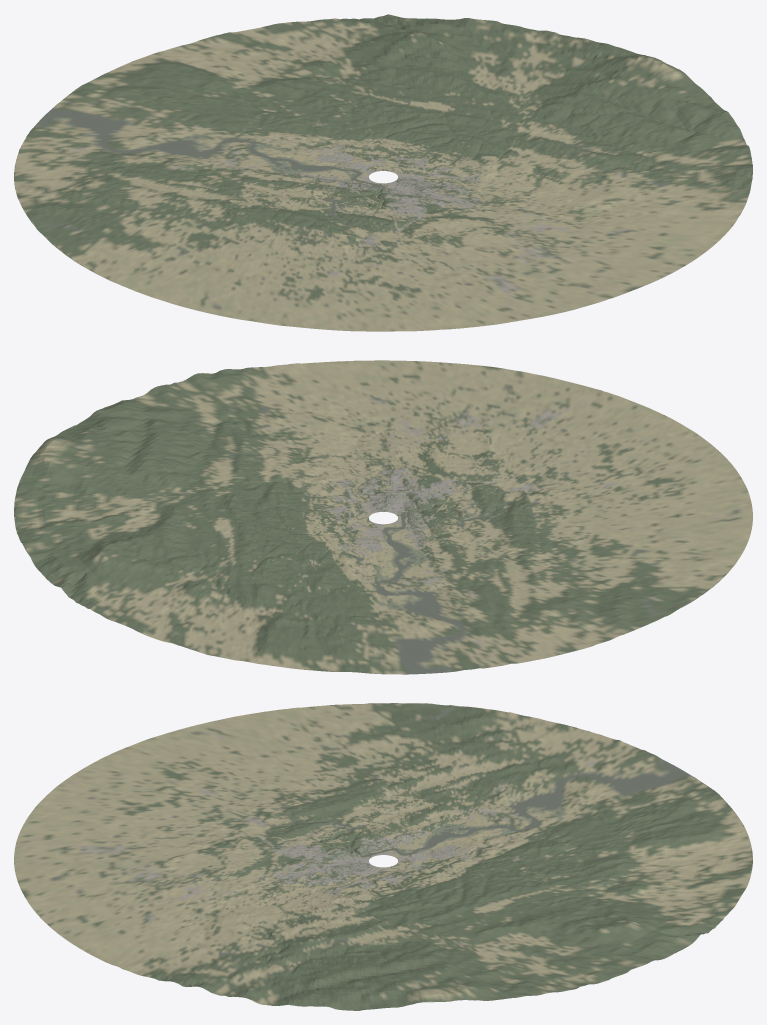
File: york_park_backdrop.glb
3 views of the same model, one above another, from view 1: azimuth 30°, elevation 25°; view 2: azimuth 150°, elevation 25°; view 3: azimuth 270°, elevation 25° (orthographic).
Visible parts, largest first — view 1: geometry_0; view 2: geometry_0; view 3: geometry_0.
Boxes of the visible parts, x1,y1,x2,y2 form: geometry_0: (14, 14, 752, 331); geometry_0: (14, 360, 752, 674); geometry_0: (14, 703, 752, 1010).
Size of the model in its own units: 50000 by 1365 by 50000.
